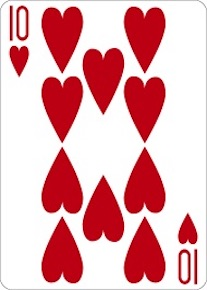TenOfHearts: (1, 1, 207, 290)
